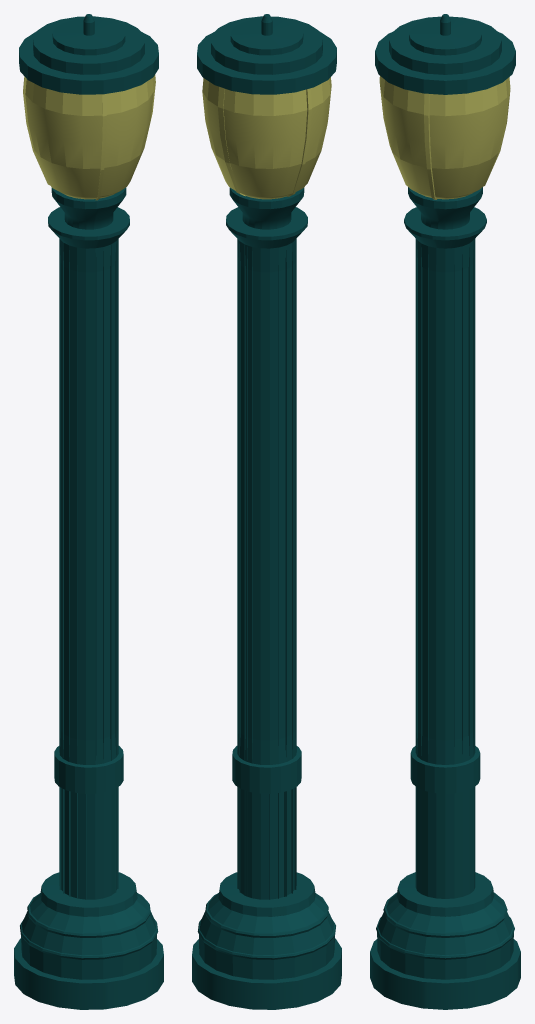
Rendered from LampTextured.obj.
The picture shows the model from 3 angles, left to right: view 1: azimuth 30°, elevation 25°; view 2: azimuth 150°, elevation 25°; view 3: azimuth 270°, elevation 25°; orthographic projection.
Visible parts, largest first — view 1: lampost9 Street_Items; view 2: lampost9 Street_Items; view 3: lampost9 Street_Items.
Boxes of the visible parts, x1,y1,x2,y2 form: lampost9 Street_Items: (14,14,163,1009); lampost9 Street_Items: (192,14,341,1009); lampost9 Street_Items: (370,14,520,1009).
Bounding box in the file's own units: 0.6867 × 4.84 × 0.6867.
